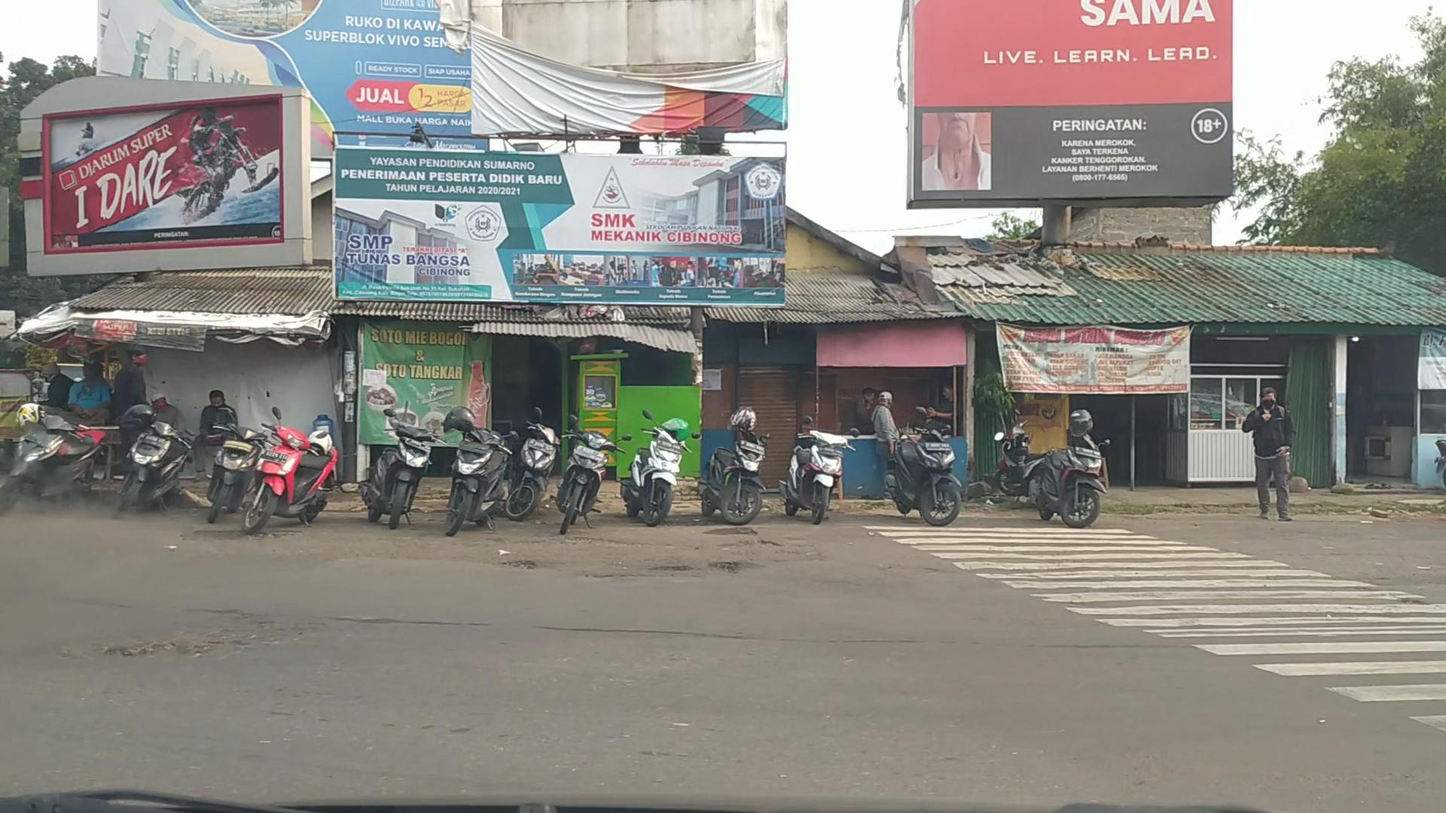pothole: (99, 624, 314, 659), (720, 537, 779, 548), (703, 526, 758, 536), (709, 558, 742, 574), (501, 559, 538, 570), (647, 564, 694, 572)
